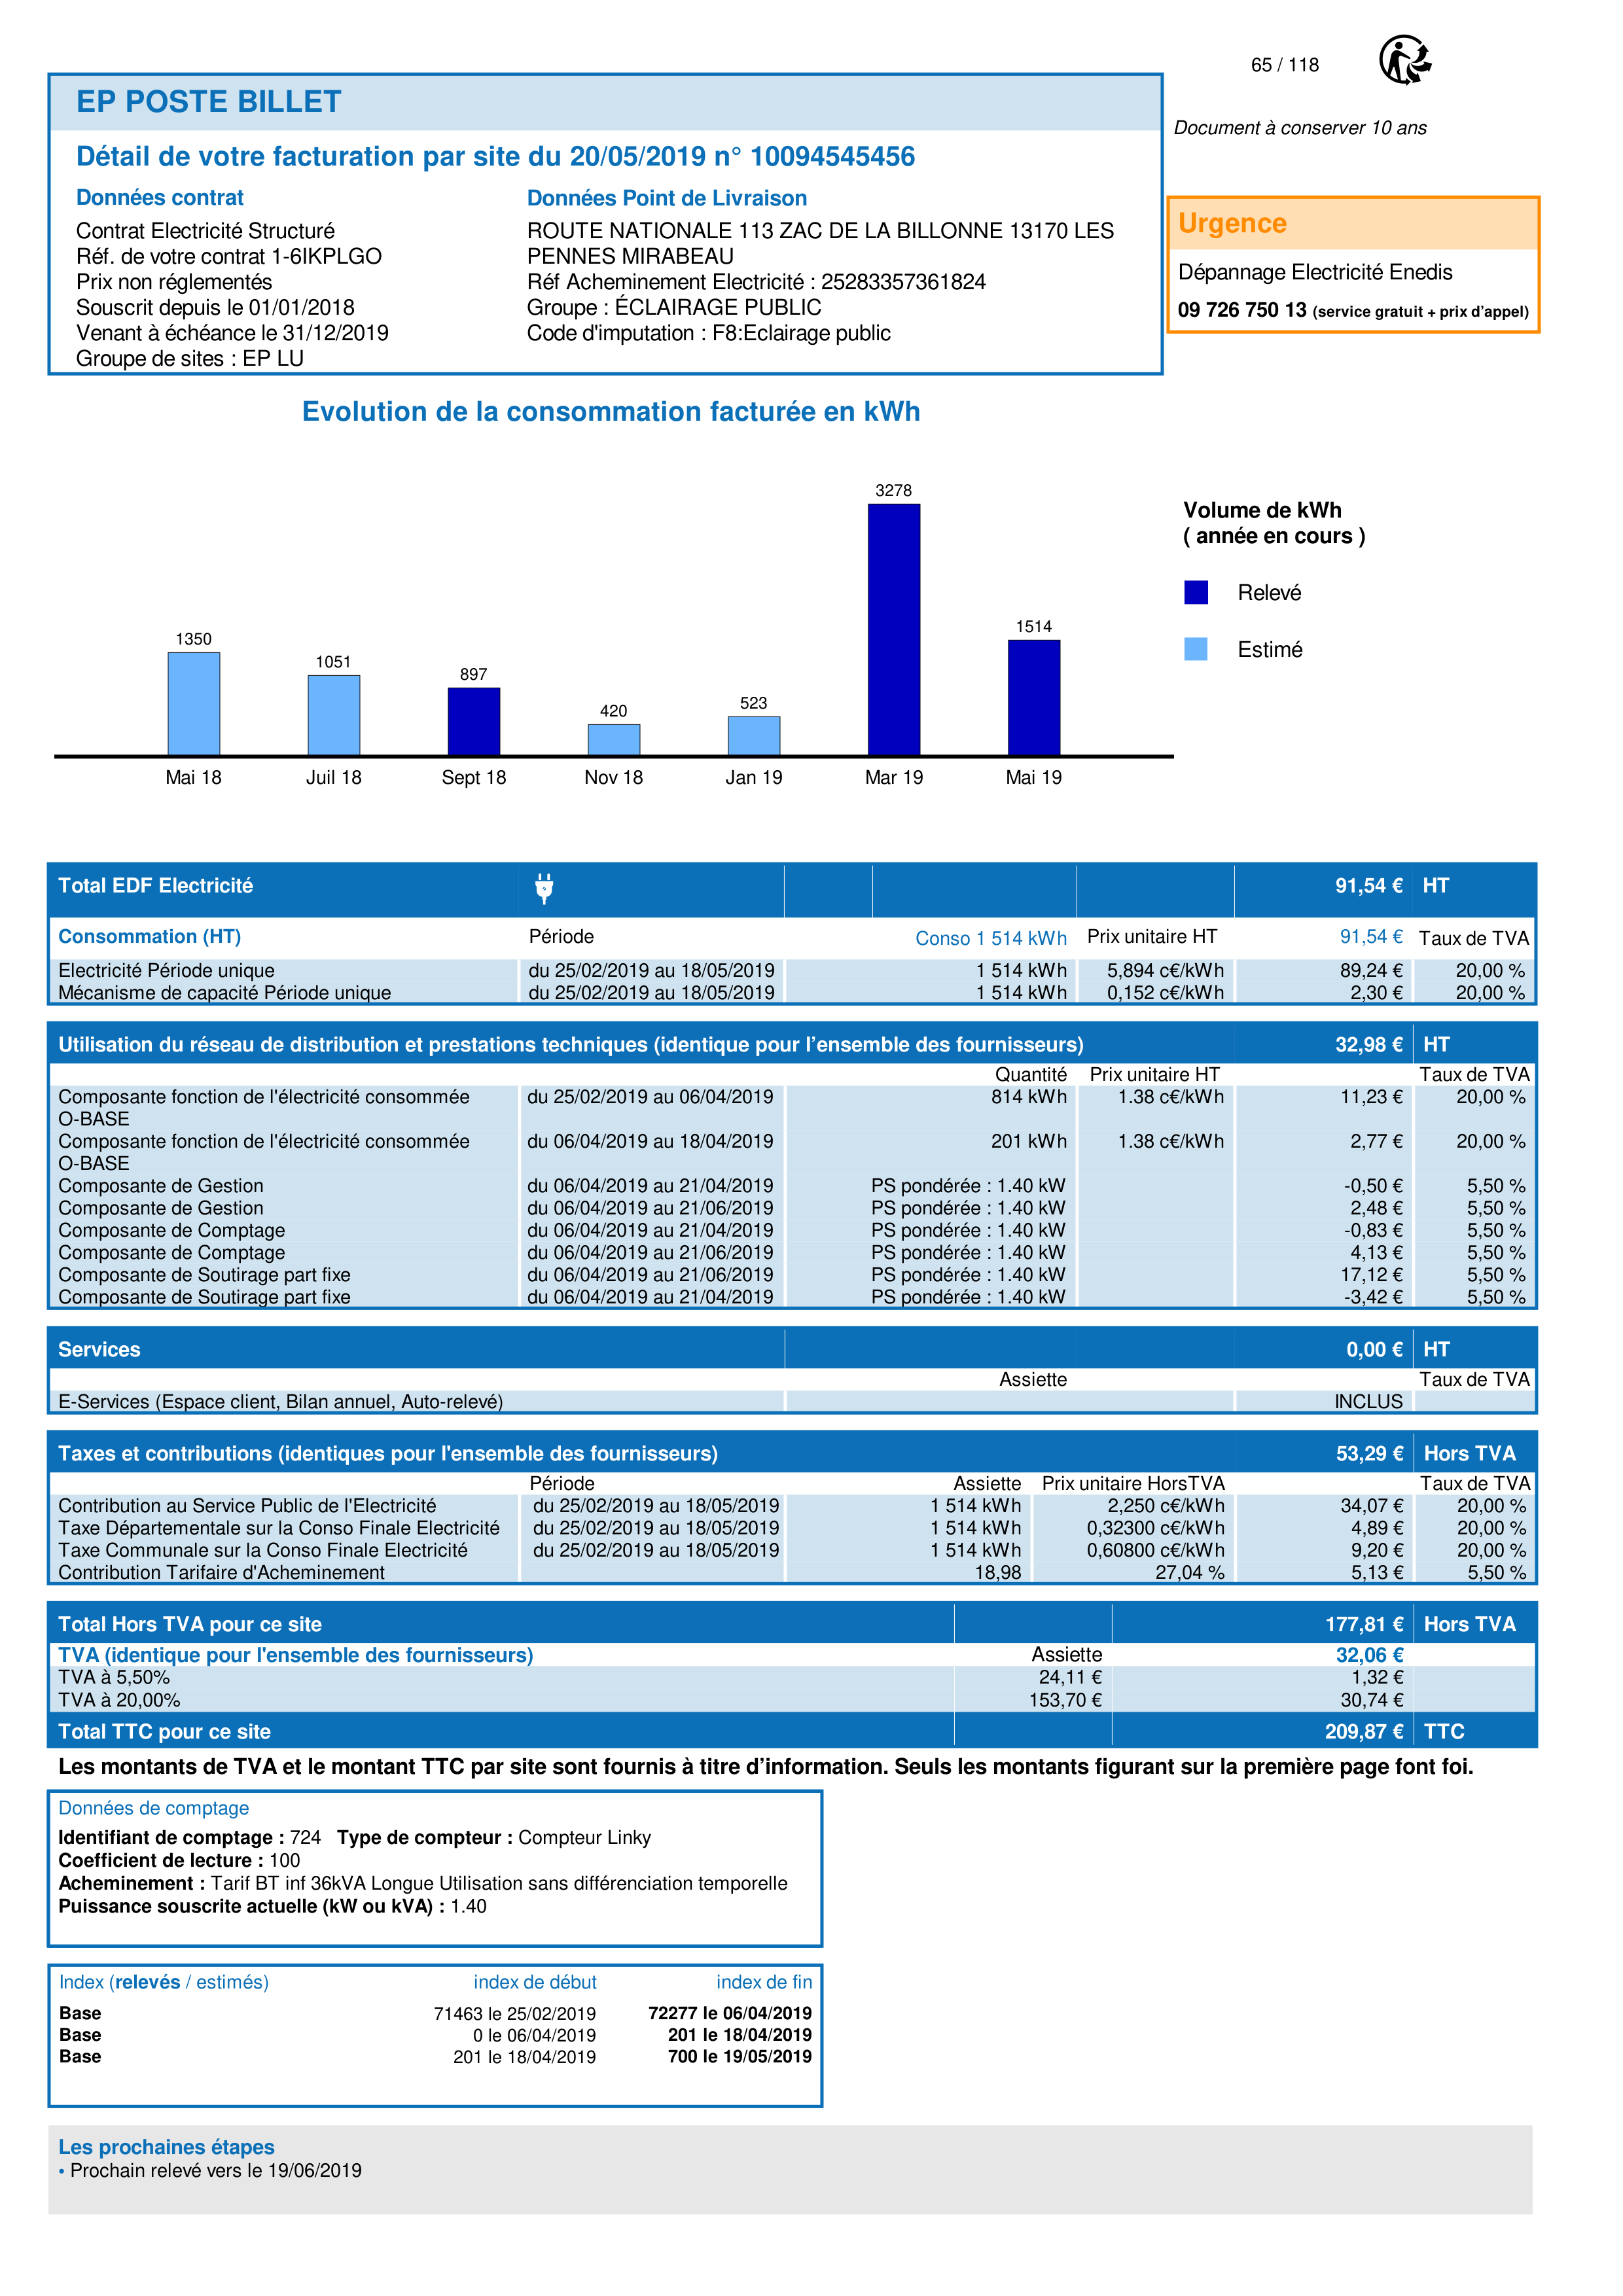area: (47, 1964, 819, 2106)
type_indicator: (51, 1966, 283, 1998)
